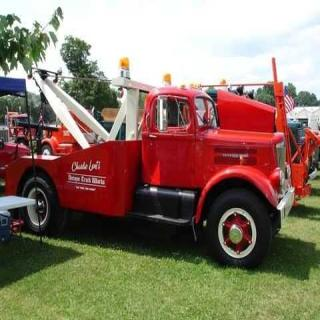Towing_truck: (5, 55, 304, 269)
